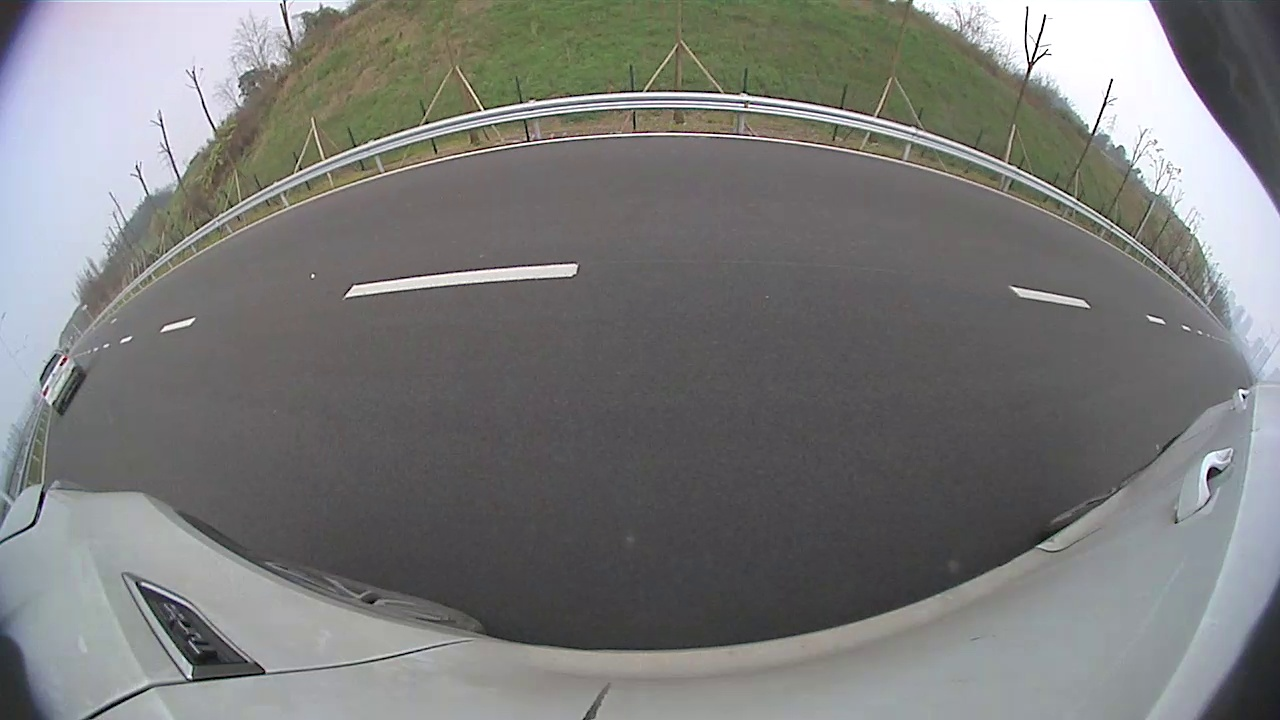car: (39, 349, 85, 415)
